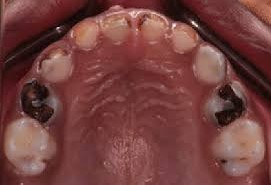UL1BC_decay: (211, 83, 247, 125)
UL2BC_decay: (213, 121, 266, 176)
ULCI_decay: (137, 12, 169, 41)
ULC_healthy: (194, 43, 226, 85)
ULLI_decay: (172, 24, 197, 53)
UR1BC_decay: (21, 82, 62, 124)
UR2BC_healthy: (3, 122, 56, 176)
URCI_decay: (100, 13, 134, 44)
URC_decay: (37, 46, 76, 83)
URLI_decay: (74, 23, 100, 50)
